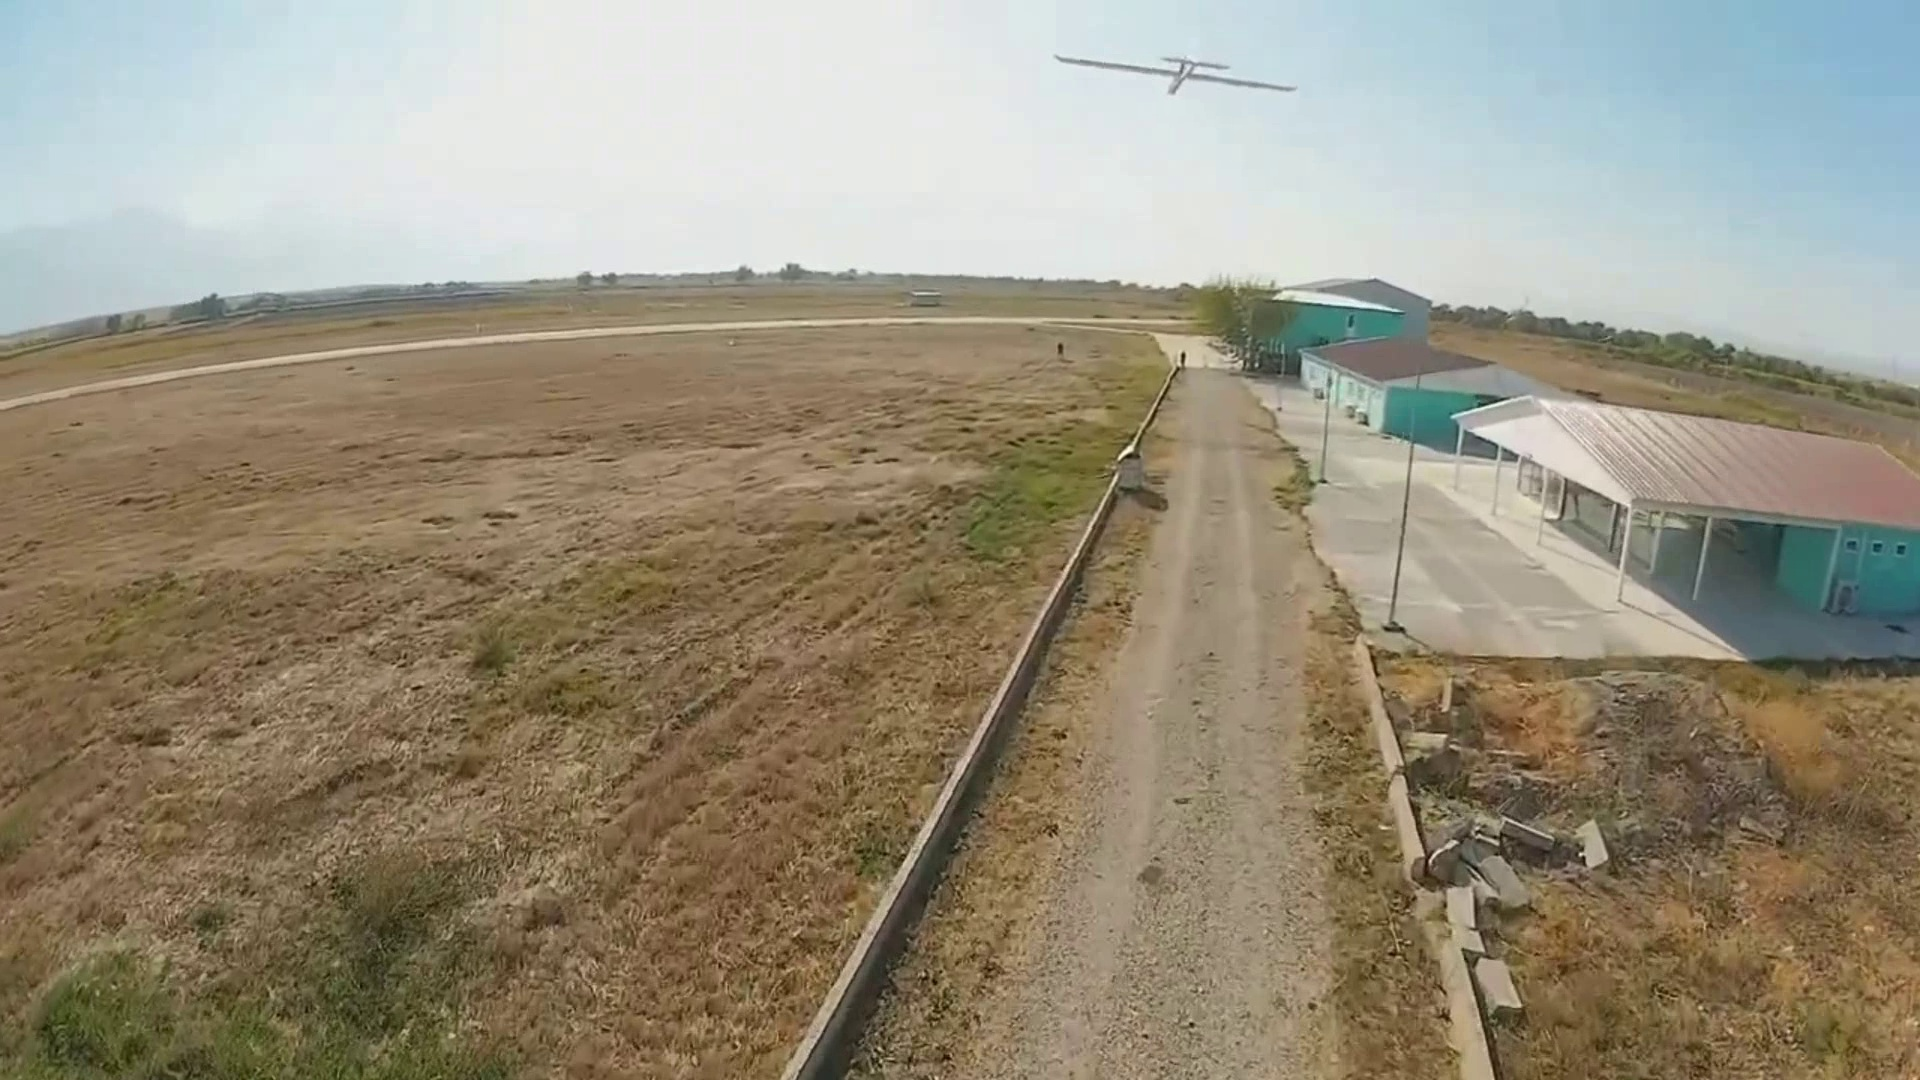airplane: (1052, 47, 1300, 100)
